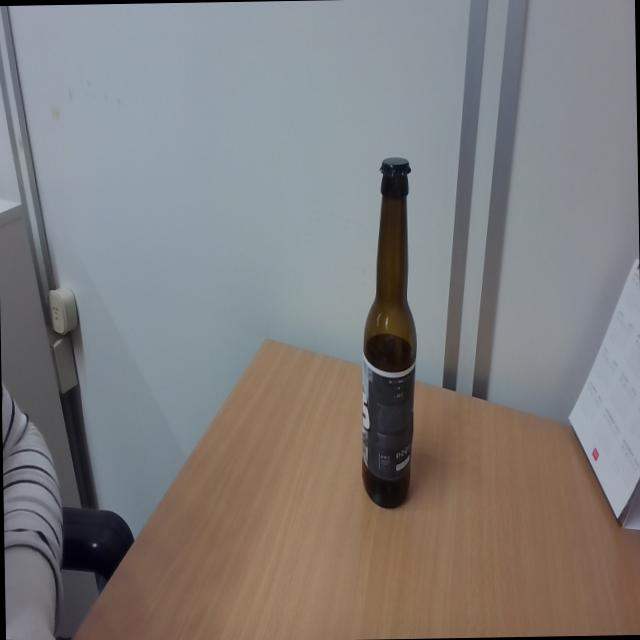Bottle: (354, 155, 420, 512)
Cap: (378, 157, 413, 180)
Label: (362, 356, 416, 480)
